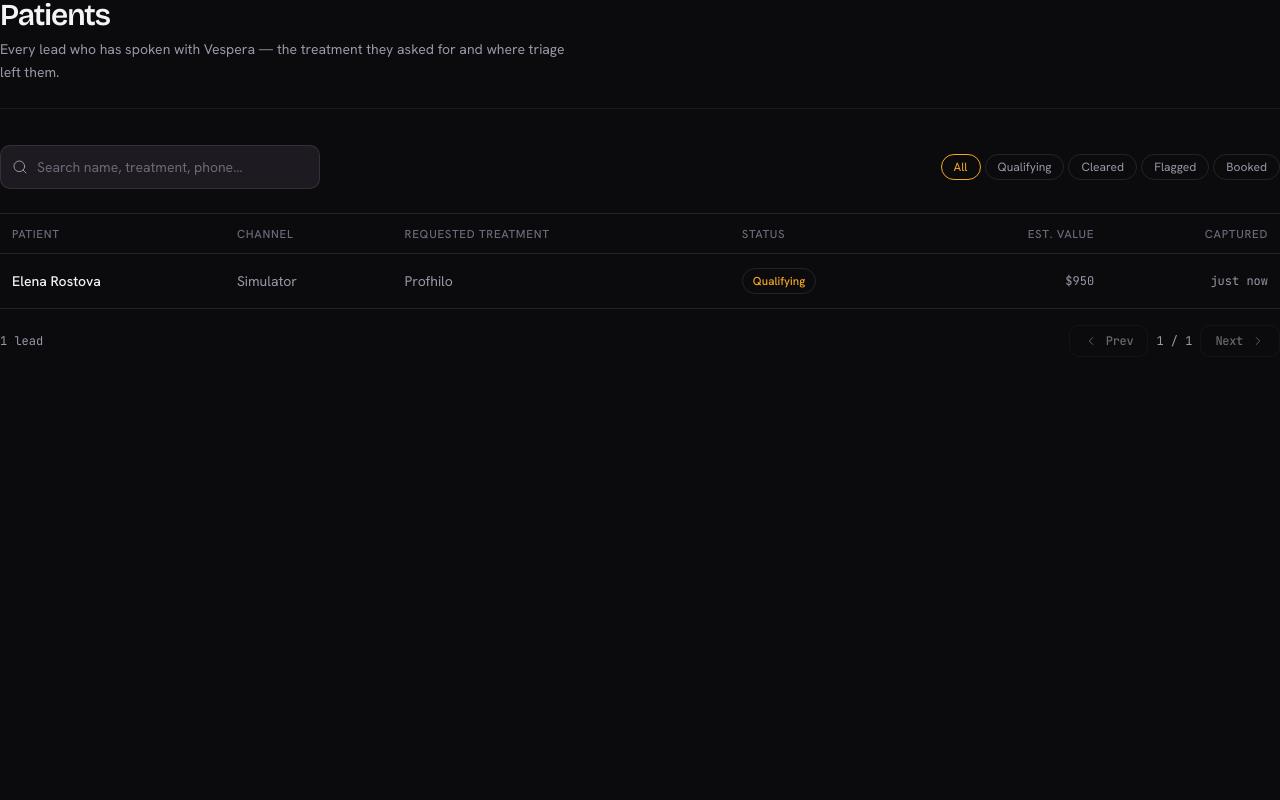
Scenario: PatientsPage › opens the detail dialog for a row
Click the text "Elena Rostova" at (56, 281), box [0,254,225,308]
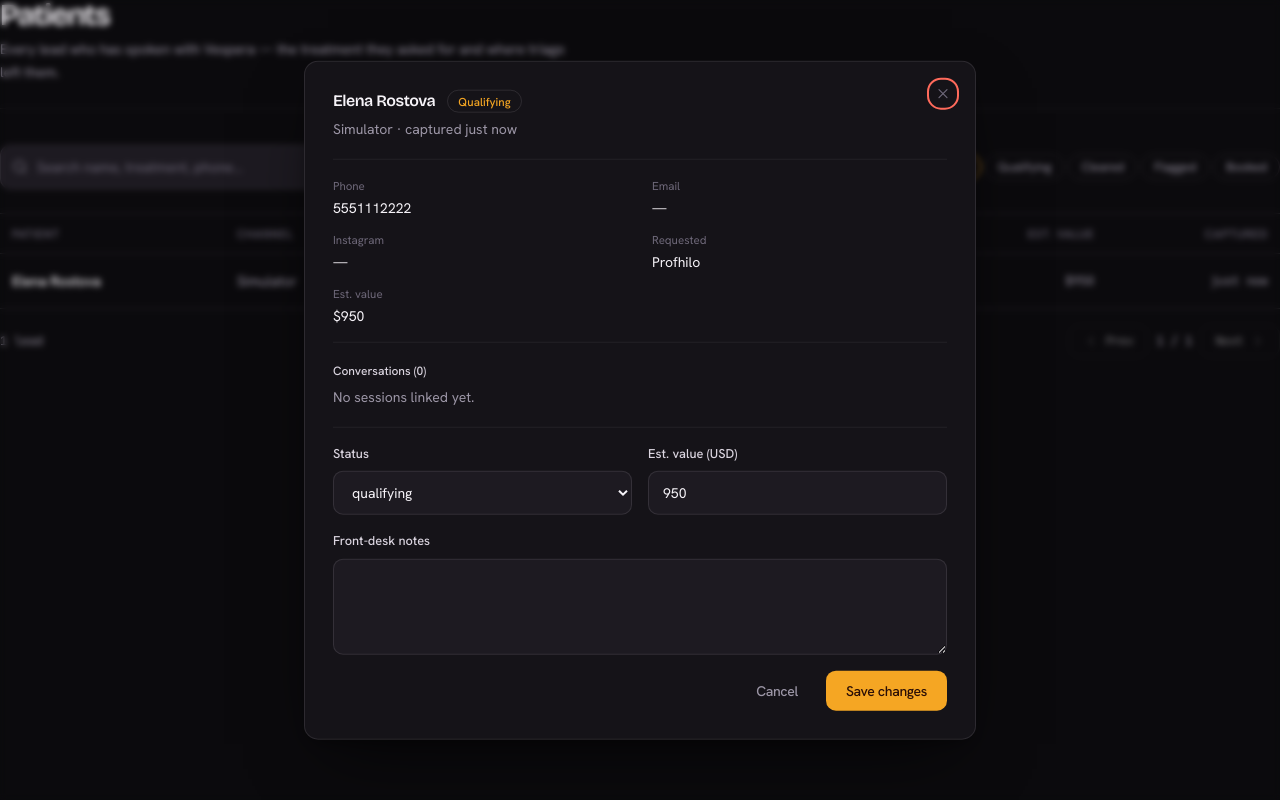
Expected: the text "Conversations (0)" is shown, [333,363,426,379]
Expected: the dialog is shown, [304,61,976,739]
